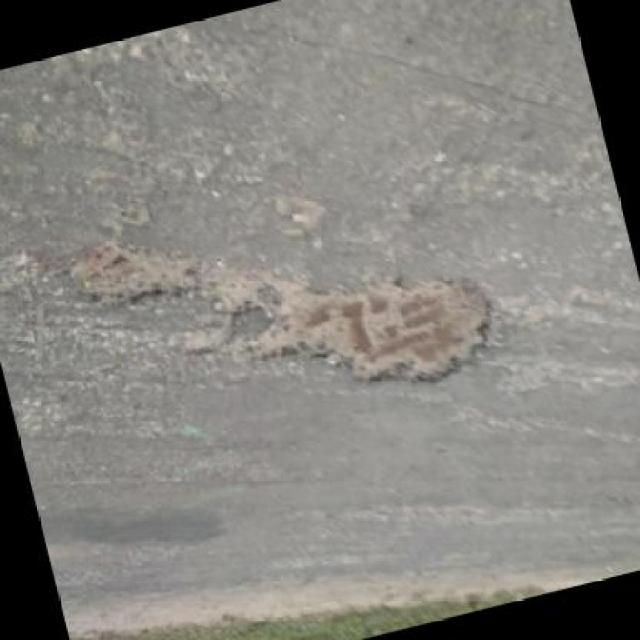pothole1: (207, 206, 516, 437), (57, 218, 212, 327)
